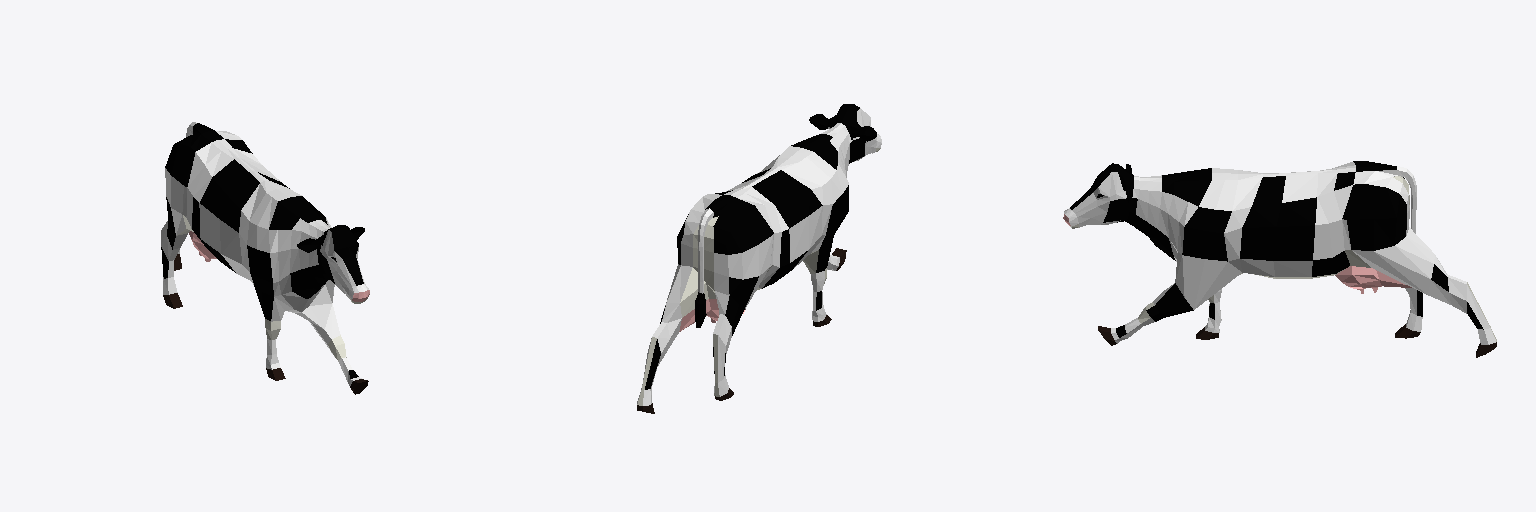
Rendered from cow_walk1.obj.
3 renders of one model, left to right at view 1: azimuth 30°, elevation 25°; view 2: azimuth 150°, elevation 25°; view 3: azimuth 270°, elevation 25°, orthographic.
Parts seen in each view (by area): view 1: vache; view 2: vache; view 3: vache.
Part boxes in pixels (x1,y1,x2,y2): vache: (161,122,369,394); vache: (637,104,881,413); vache: (1063,161,1496,357).
Bounding box in the file's own units: 0.7486 × 1.66 × 3.6.